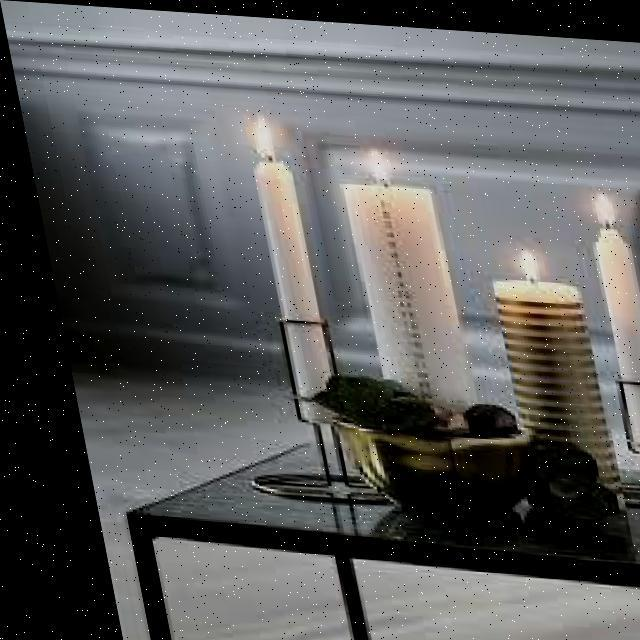Fire: (231, 104, 282, 164), (568, 178, 634, 222), (340, 136, 394, 176), (504, 239, 538, 277)
